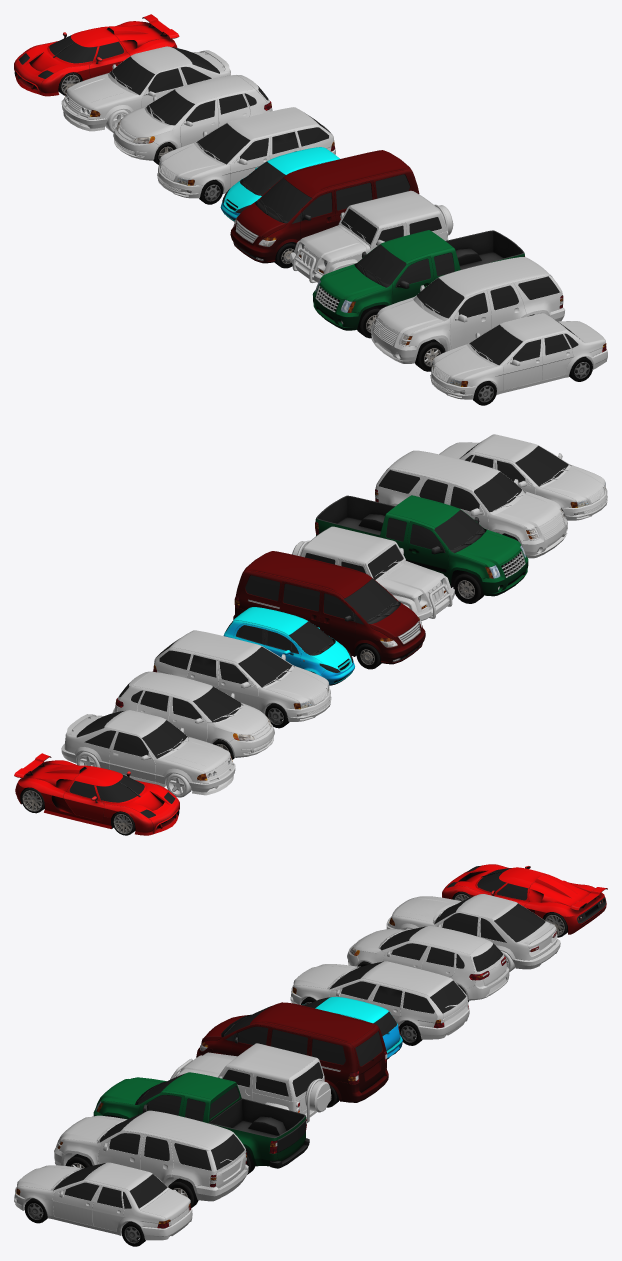
Rendered from CARS.fbx.
3 renders of one model, top to bottom at view 1: azimuth 30°, elevation 25°; view 2: azimuth 150°, elevation 25°; view 3: azimuth 330°, elevation 25°, orthographic.
Parts seen in each view (by area): view 1: SUV Body, minivan body, Pickup Body, Sedan Body, Wagon Body, Hatchback Body, Coupe Body, Offroad Body, Sport body, Compact Body, Wheel_F_L; view 2: minivan body, Pickup Body, SUV Body, Coupe Body, Wagon Body, Sport body, Hatchback Body, Sedan Body, Offroad Body, Compact Body, Wheel_F_R; view 3: SUV Body, minivan body, Sedan Body, Pickup Body, Wagon Body, Hatchback Body, Coupe Body, Offroad Body, Sport body, Compact Body.
Boxes of the visible parts, <box> form: SUV Body: <box>371,257,564,363</box>; minivan body: <box>230,150,419,263</box>; Pickup Body: <box>312,230,524,330</box>; Sedan Body: <box>430,313,607,399</box>; Wagon Body: <box>157,107,335,198</box>; Hatchback Body: <box>113,75,272,160</box>; Coupe Body: <box>61,46,230,131</box>; Offroad Body: <box>290,190,453,283</box>; Sport body: <box>14,14,179,96</box>; Compact Body: <box>220,147,339,221</box>; Wheel_F_L: <box>415,339,445,371</box>; minivan body: <box>233,551,425,664</box>; Pickup Body: <box>315,495,528,596</box>; SUV Body: <box>375,450,567,558</box>; Coupe Body: <box>61,710,235,795</box>; Wagon Body: <box>152,630,331,721</box>; Sport body: <box>14,753,179,835</box>; Hatchback Body: <box>112,671,274,757</box>; Sedan Body: <box>439,434,607,520</box>; Offroad Body: <box>292,526,454,620</box>; Compact Body: <box>223,607,354,685</box>; Wheel_F_R: <box>453,571,483,603</box>; SUV Body: <box>54,1110,248,1201</box>; minivan body: <box>196,1002,388,1102</box>; Sedan Body: <box>14,1162,192,1240</box>; Pickup Body: <box>93,1072,309,1168</box>; Wagon Body: <box>290,961,469,1039</box>; Hatchback Body: <box>347,926,509,1000</box>; Coupe Body: <box>386,894,560,969</box>; Offroad Body: <box>170,1043,330,1122</box>; Sport body: <box>442,864,607,934</box>; Compact Body: <box>301,996,402,1059</box>.
Bounding box in the file's own units: 229 × 77.59 × 957.
